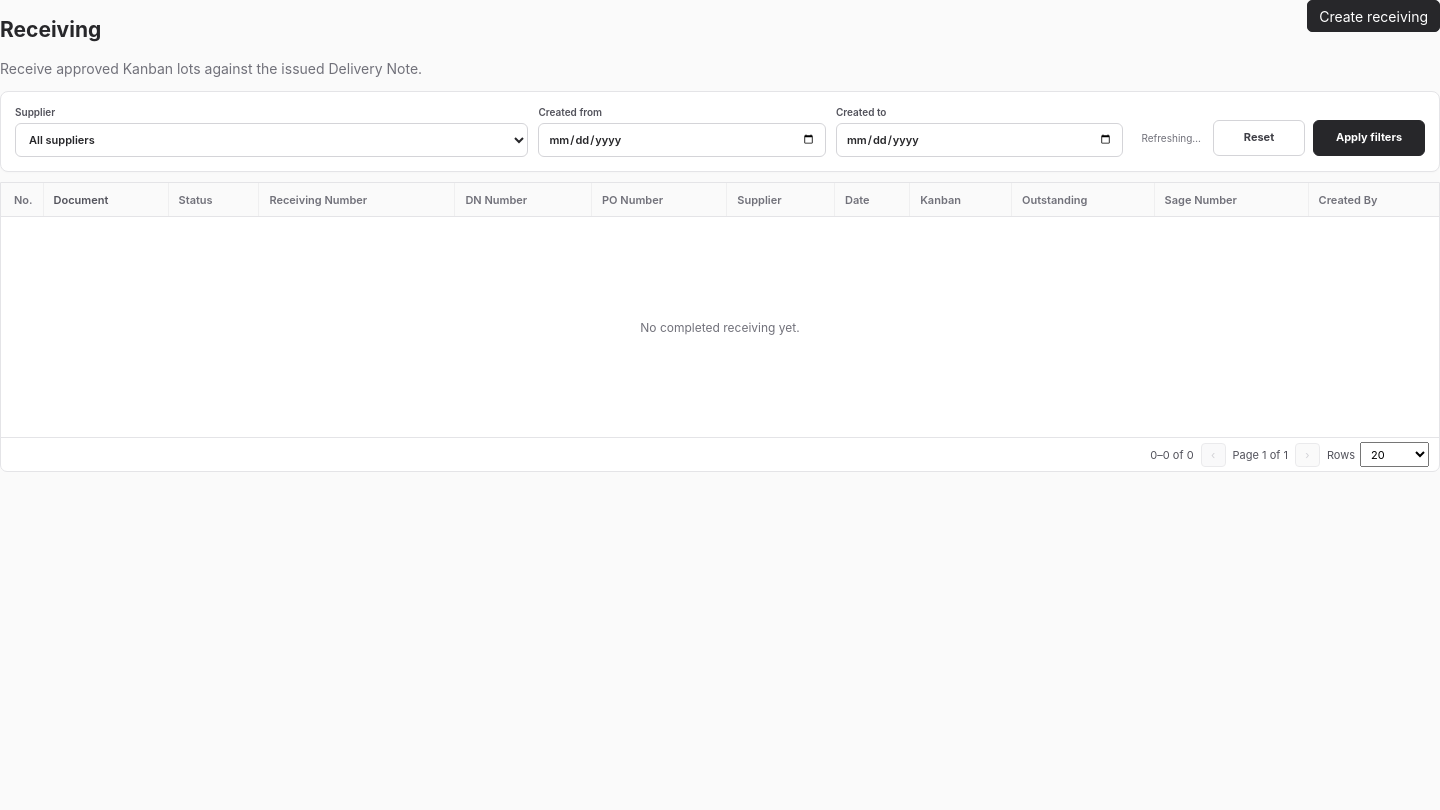
Test: shows English validation for DN_INVALID
Click the button "Create receiving" at (1374, 16), box [1307,0,1439,32]
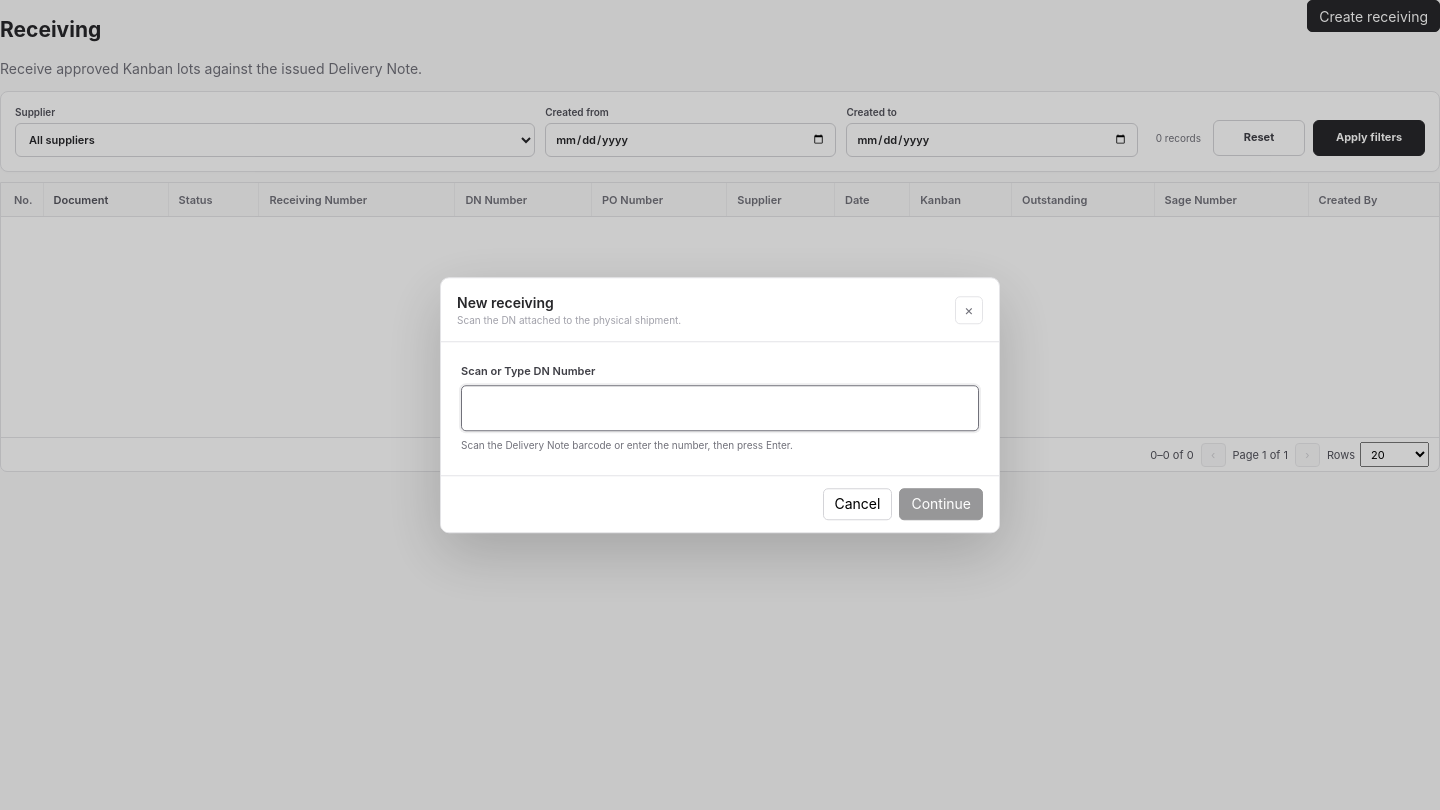
Type "DN-X" into the field labelled "Scan or Type DN Number" at (720, 408), box [461,385,979,431]
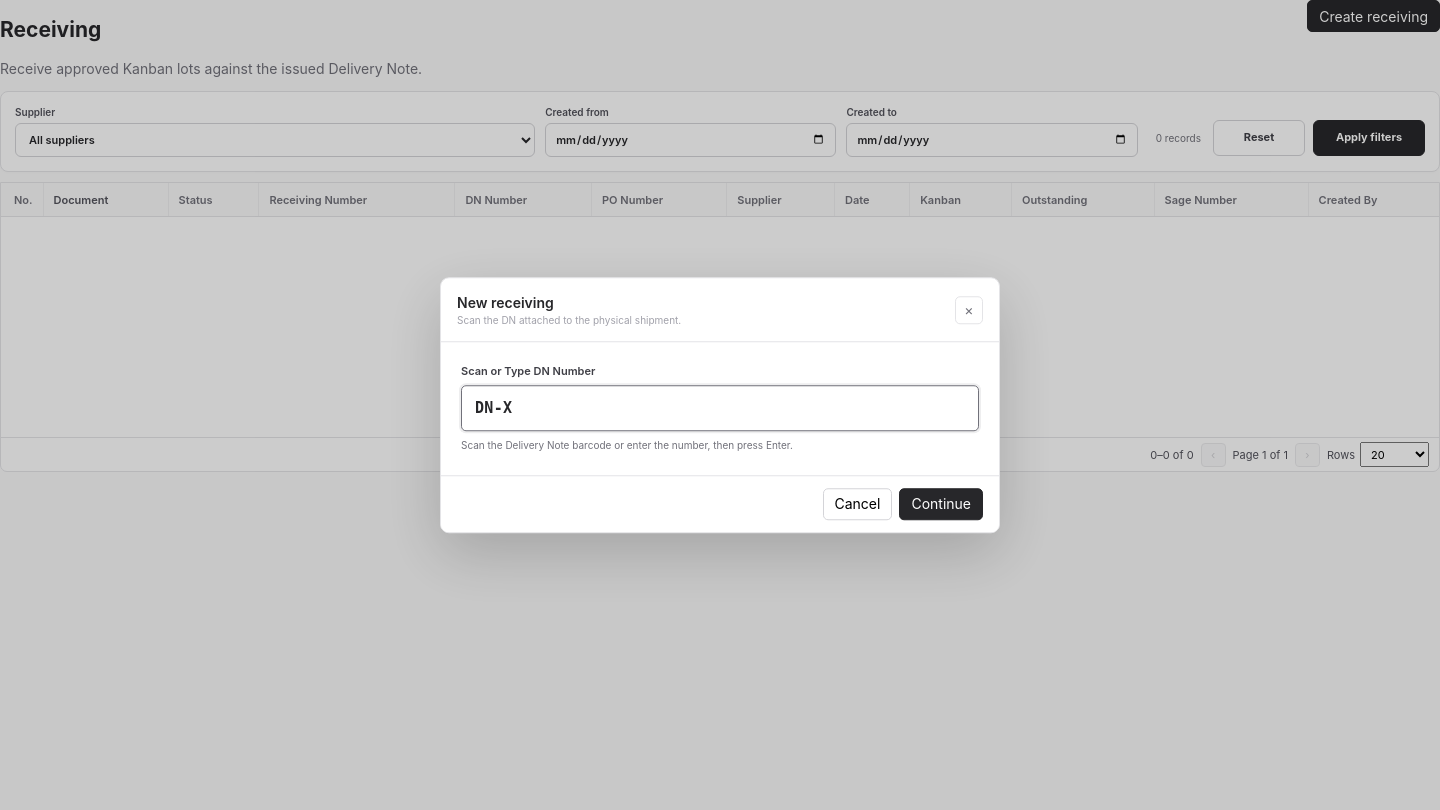
Submit the form labelled "Scan or Type DN Number", box [441,342,999,532]
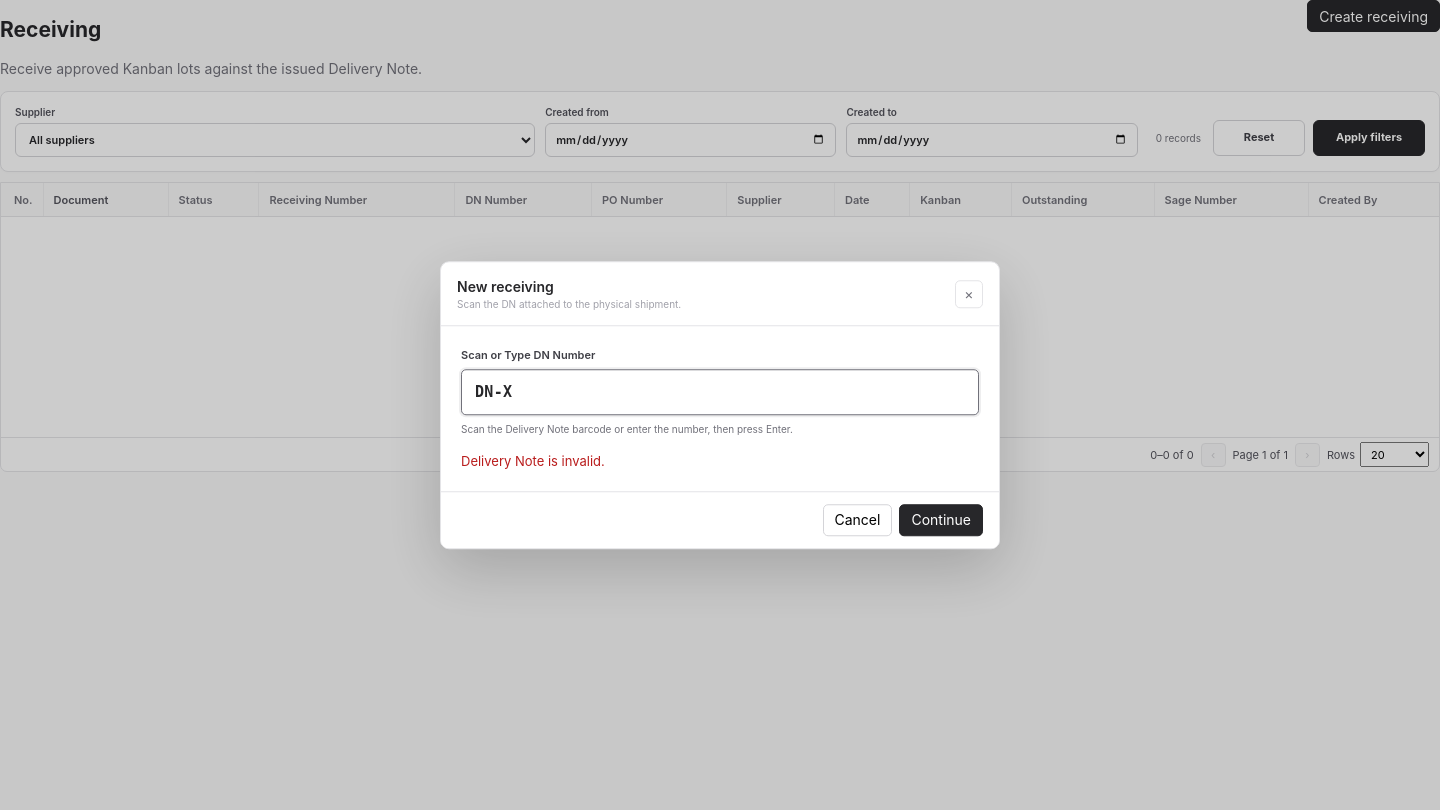
Expected: the message reads "Delivery Note is invalid.", [461,453,605,469]
